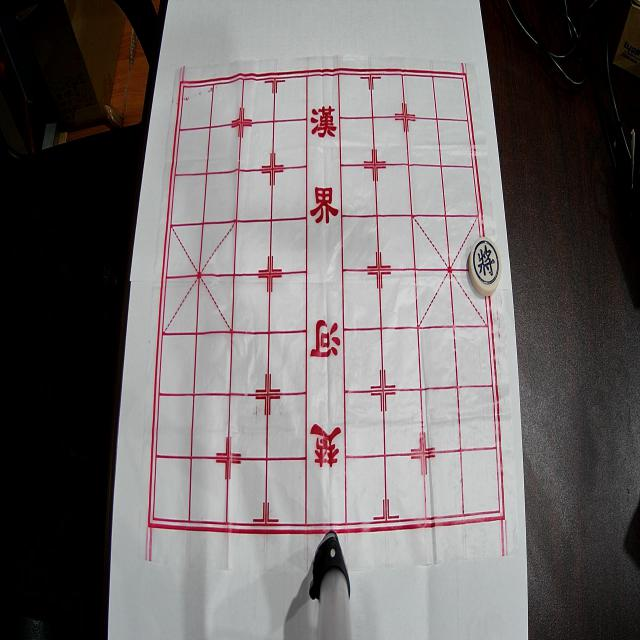black-general: (468, 237, 502, 296)
